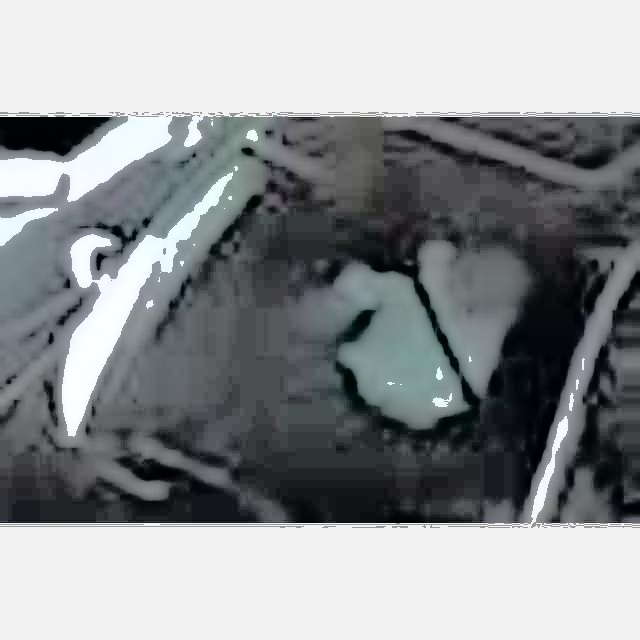pakai: (299, 225, 496, 458)
